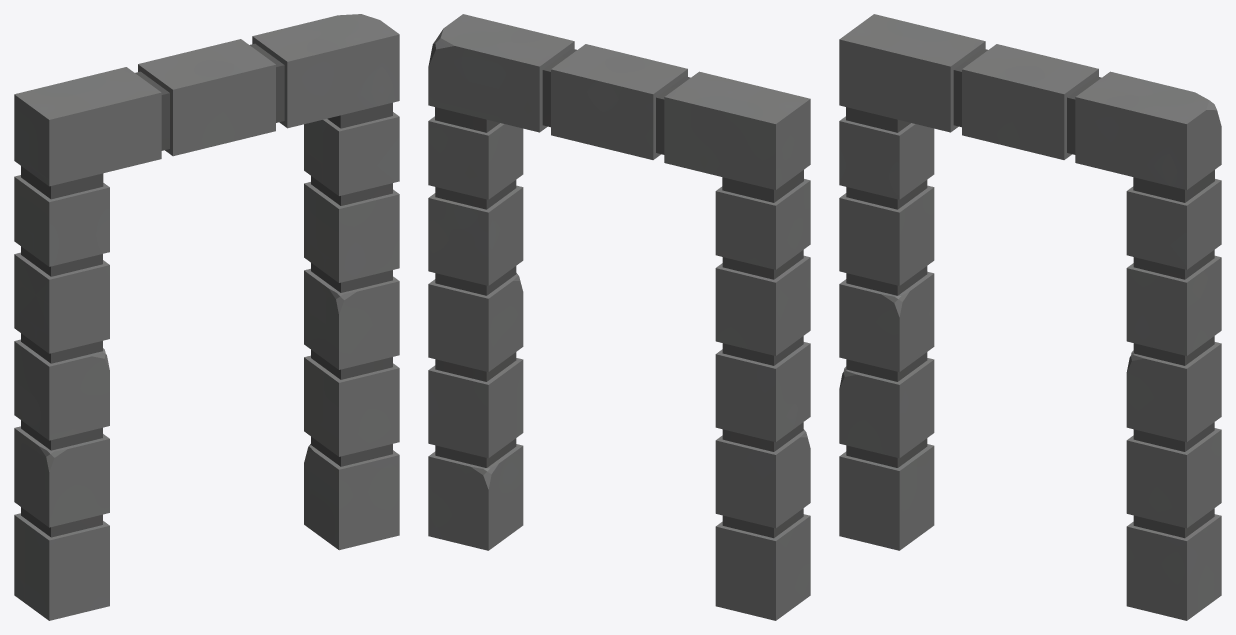
The model's file is Arch_6.fbx.
3 views of the same model, side by side, from view 1: azimuth 30°, elevation 25°; view 2: azimuth 150°, elevation 25°; view 3: azimuth 330°, elevation 25° (orthographic).
Visible parts, largest first — view 1: Arch 6; view 2: Arch 6; view 3: Arch 6.
Part boxes in pixels (left/top/right/bottom): Arch 6: left=14, top=14, right=399, bottom=620; Arch 6: left=428, top=14, right=810, bottom=620; Arch 6: left=839, top=14, right=1221, bottom=620.
Size of the model in its own units: 169 by 231 by 29.34.
